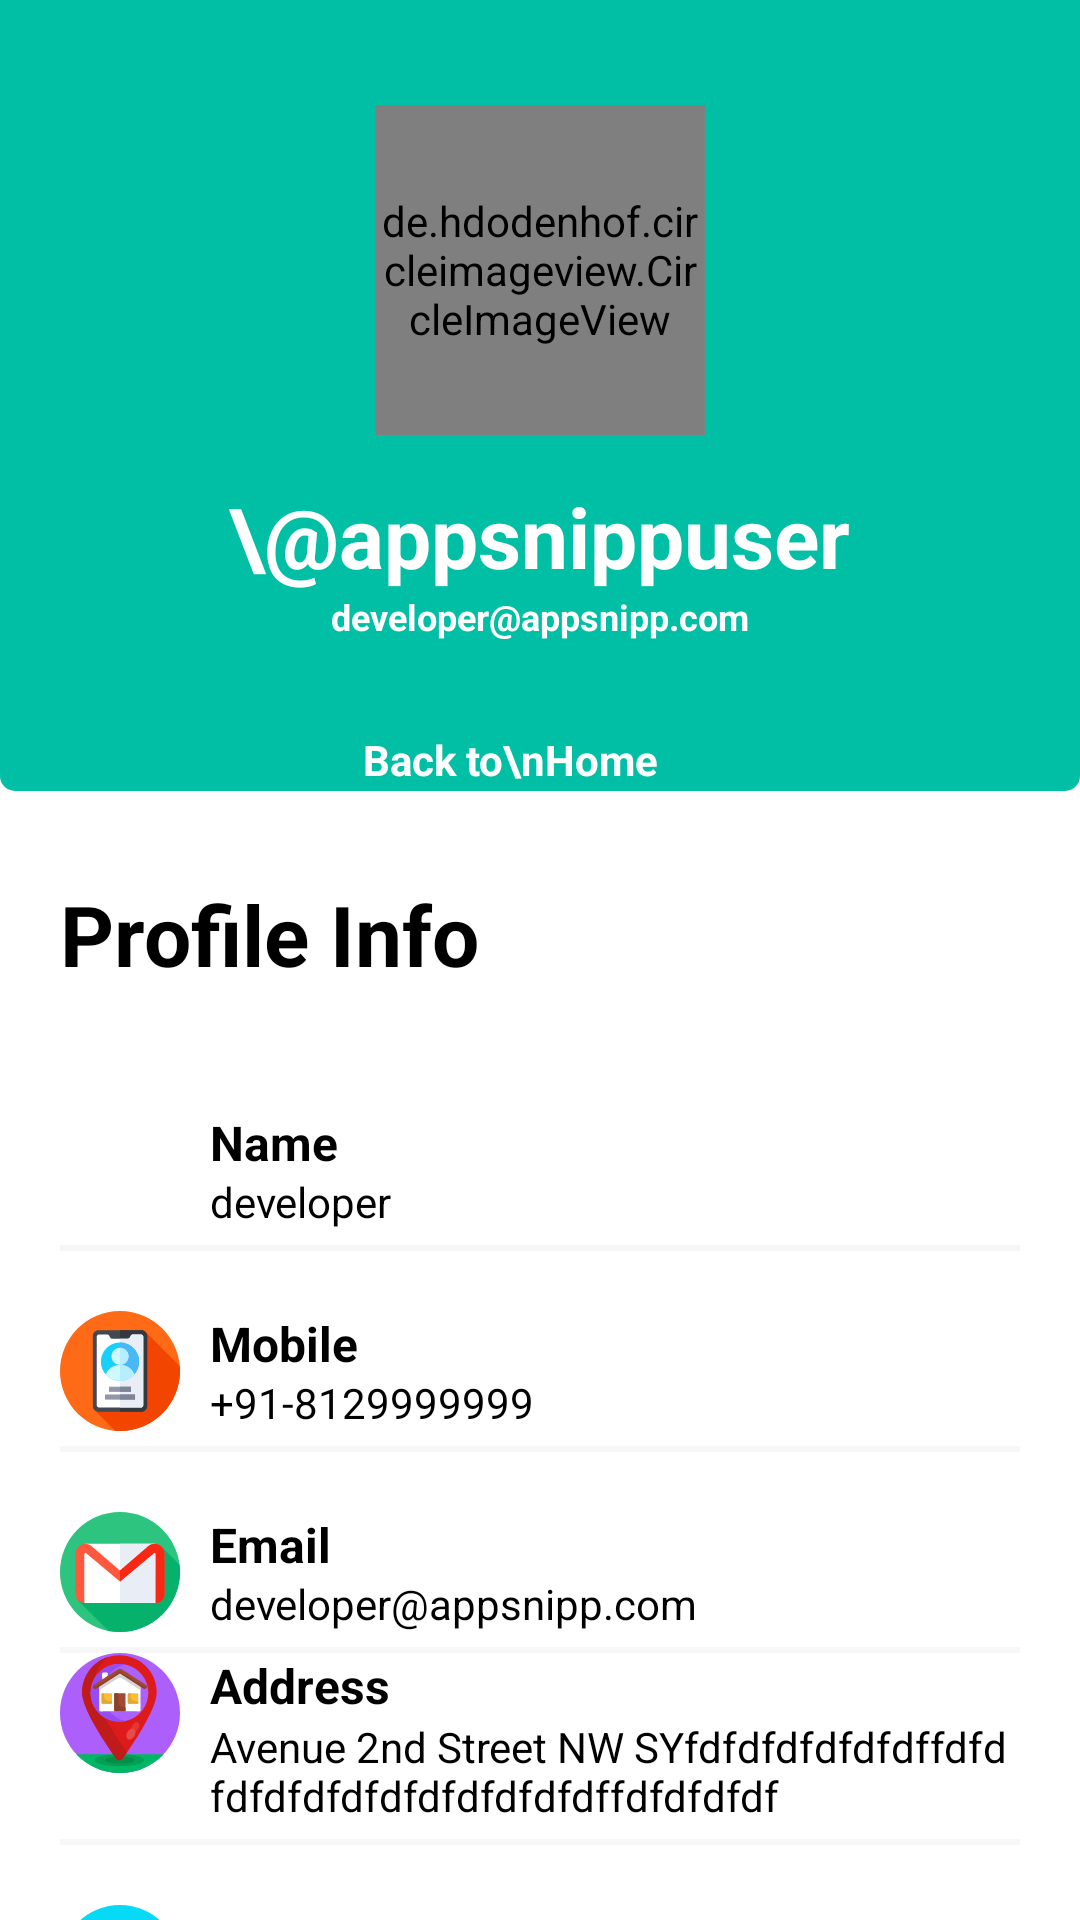

Icon click points for this 1080w x 1920h phone screenshot, format [x,y]:
home: [120,1713]
profile: [120,1371]
